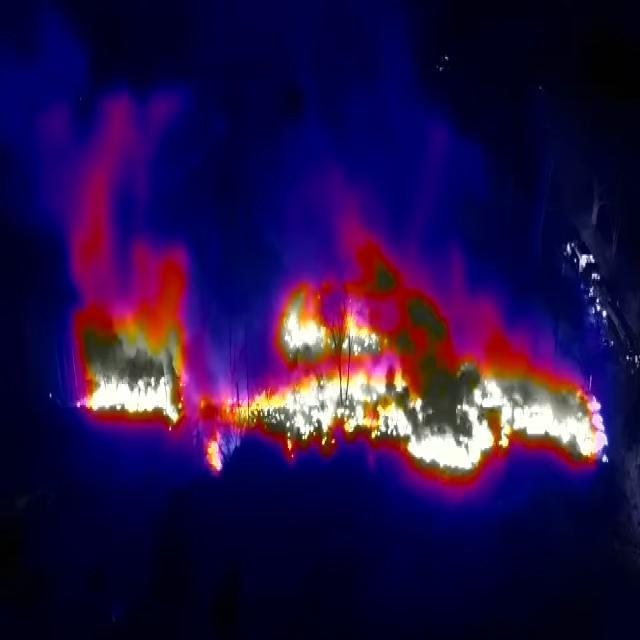fire: (201, 276, 610, 481), (78, 255, 191, 432)
